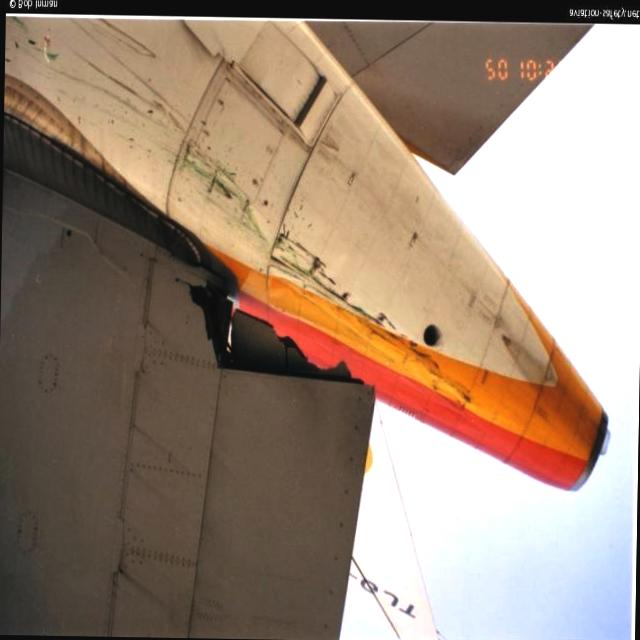crack: (183, 268, 370, 386)
